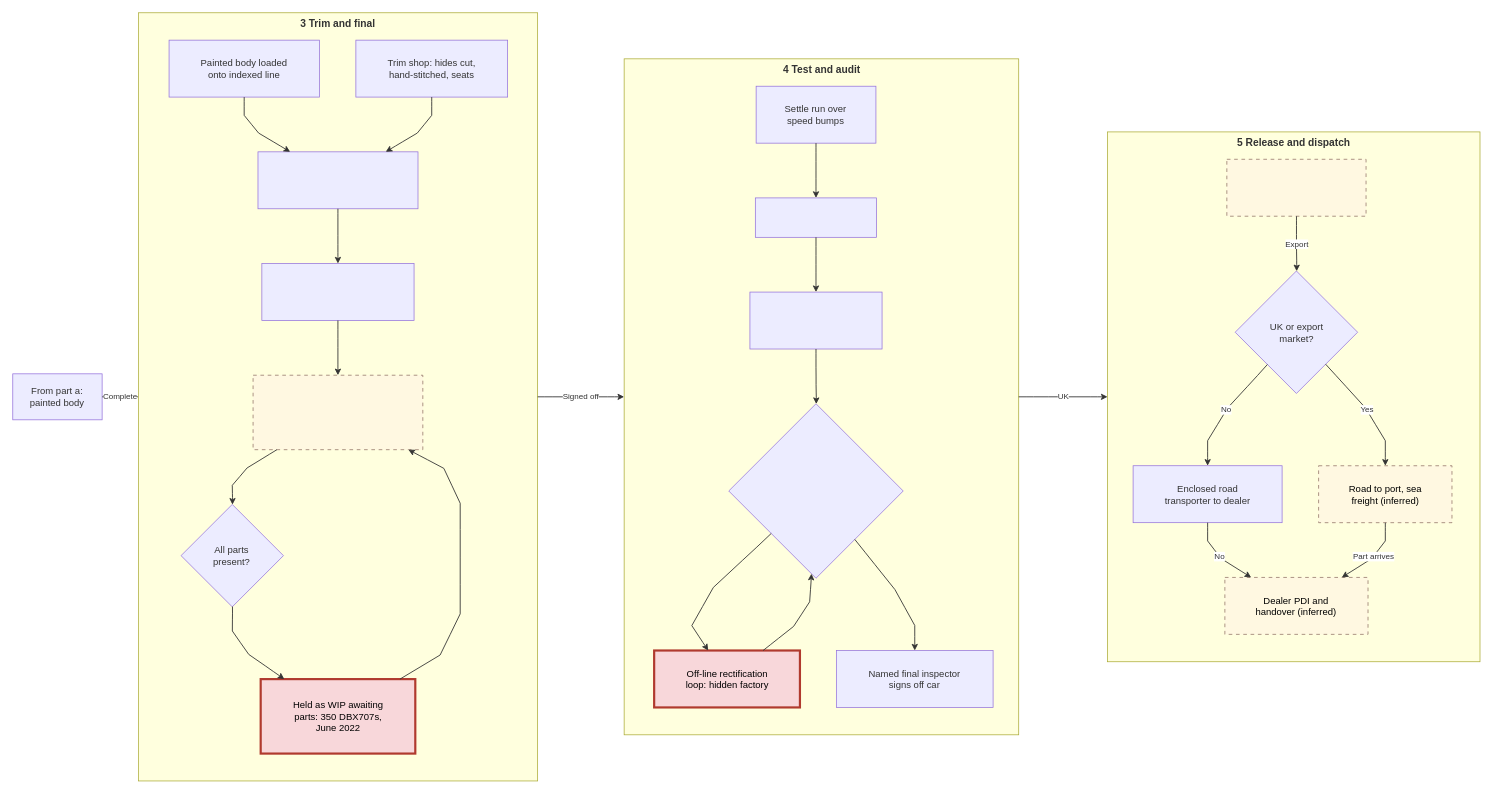
This 1493x794 diagram has some shape labels left out. The shapes that lost their labels are listed below. From the top down, each one's centre as x and y in pixels, then its label:
At (337,180): "Harness, E/E modules and interior fitted".
At (1296,187): "Release to vehicle yard (inferred)".
At (816,217): "Water leak test".
At (337,291): "Powertrain marriage: AMG V8 or V12".
At (815,320): "Rolling-road test, no track on site".
At (337,412): "Wheels, fluids, closures, software flash (inferred)".
At (815,490): "Right first time? c.65 per cent 2024, 95 per cent 2025".
